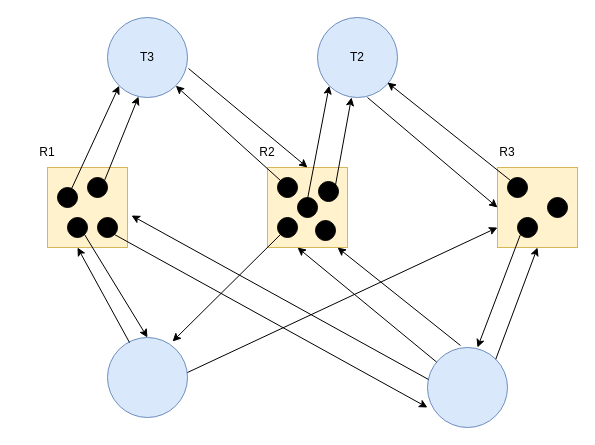
Image size: 595x445. Some labels were removed from this diagram. Here are the shapes that lost their labels. From the top down, the centre of each, then its label:
At pixel 147 377: "T1".
At pixel 467 387: "T4".
